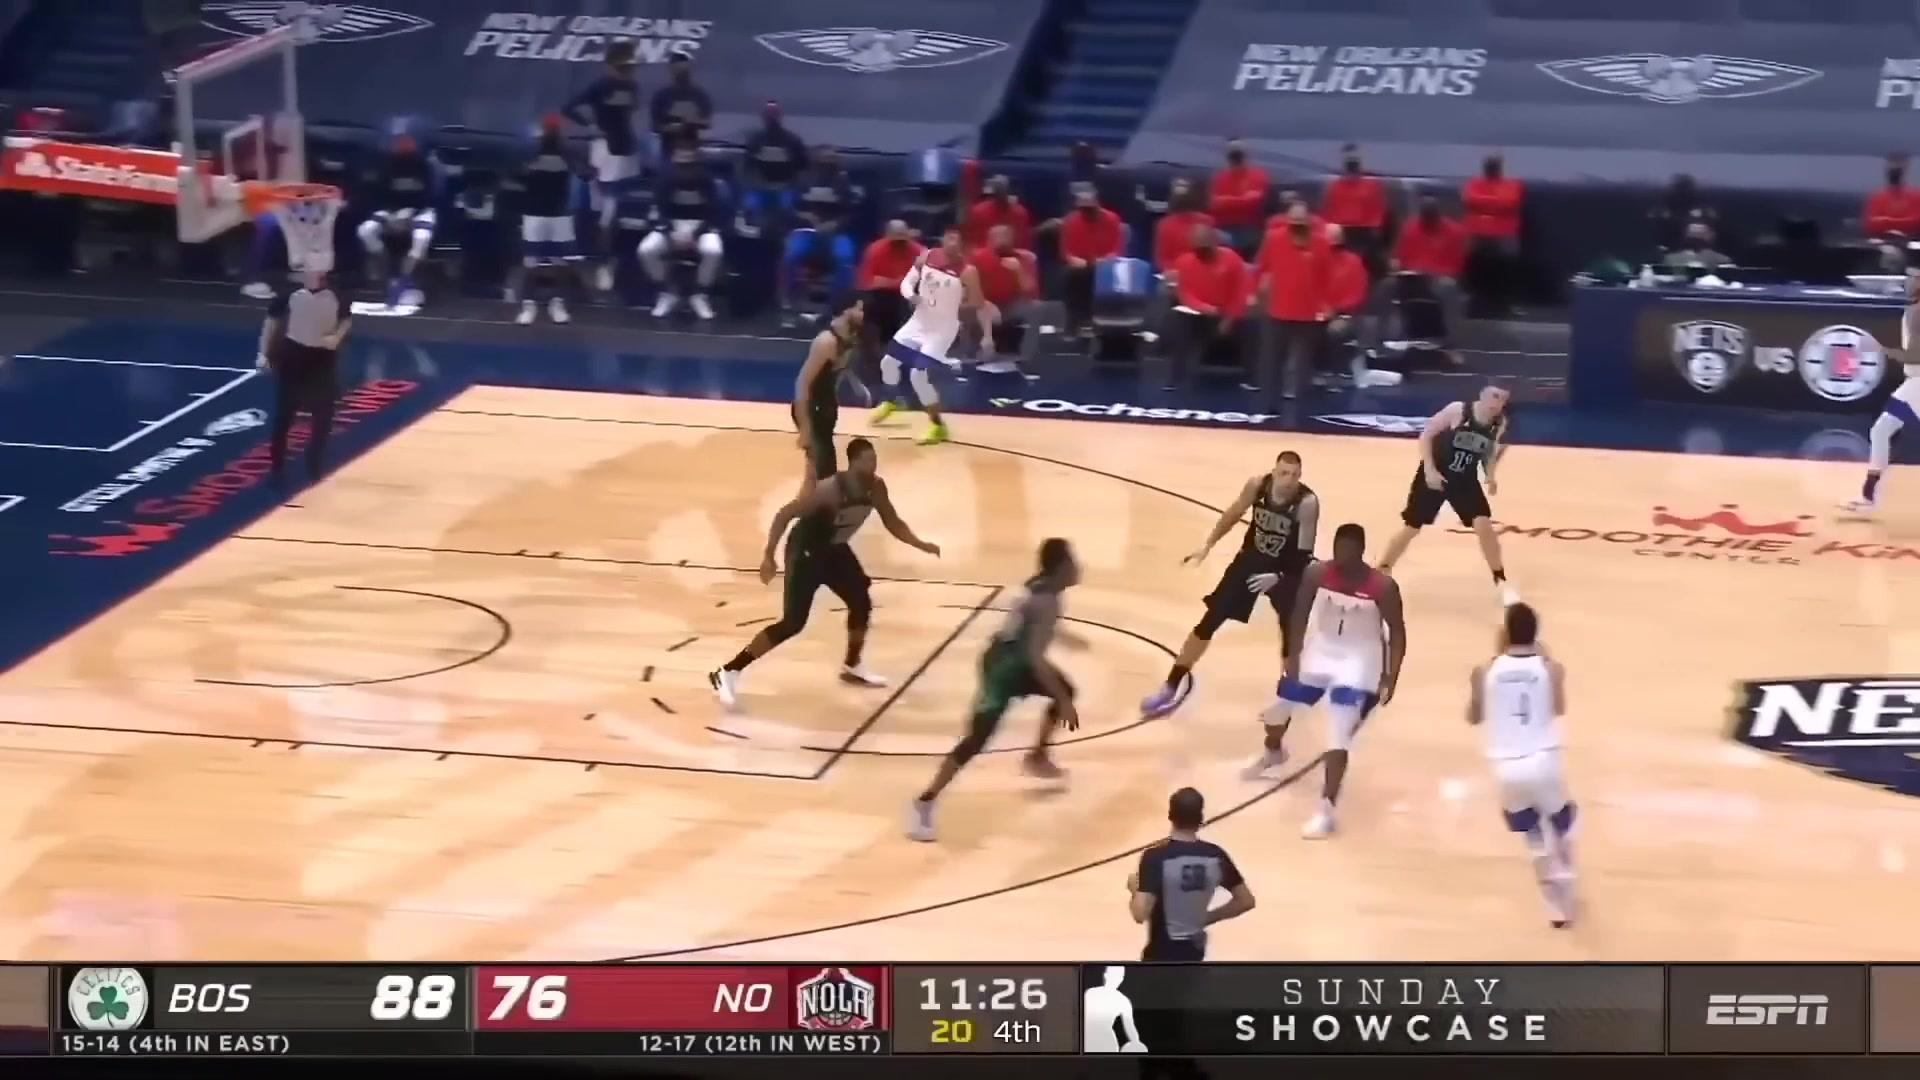no_foul: (1125, 418, 1406, 807)
